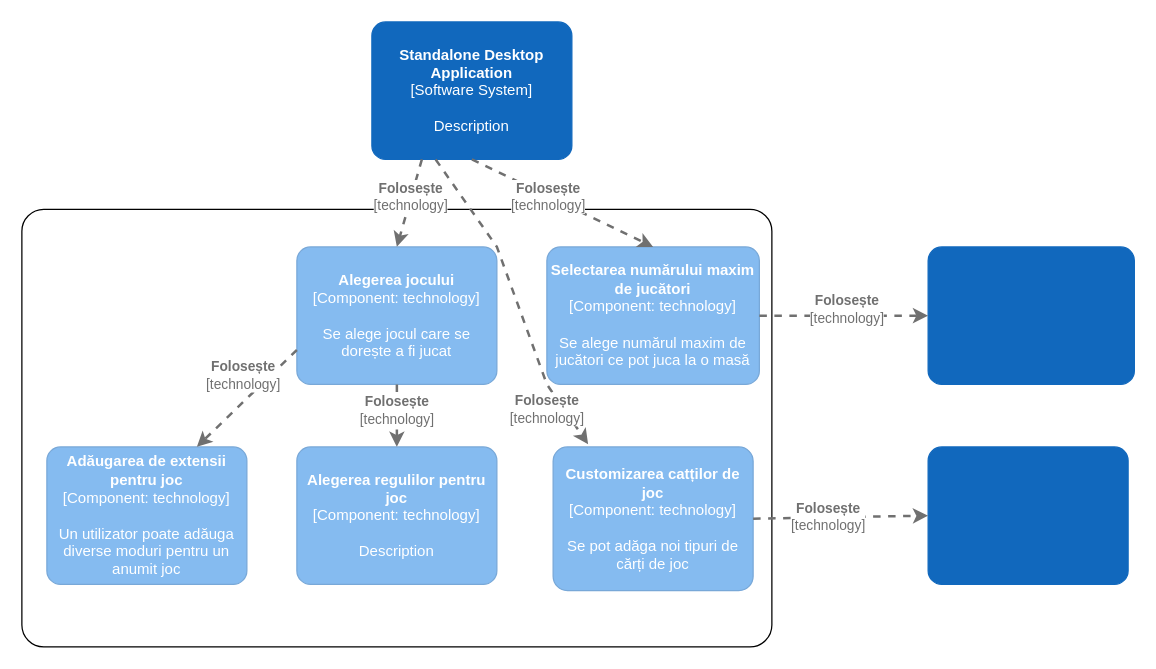
Some shapes in this 1156 by 669 pixel diagram are drawn without their labels. Here are the shapes that lost their labels. From the top down, the box of each, then its label:
(927, 246, 1134, 384): Modulul de Comunicare [Software System] Description
(21, 208, 772, 647): Modulul de extensibilitate [applicationAndVersion]
(927, 446, 1128, 584): Modulul de interfață [Software System] Description
